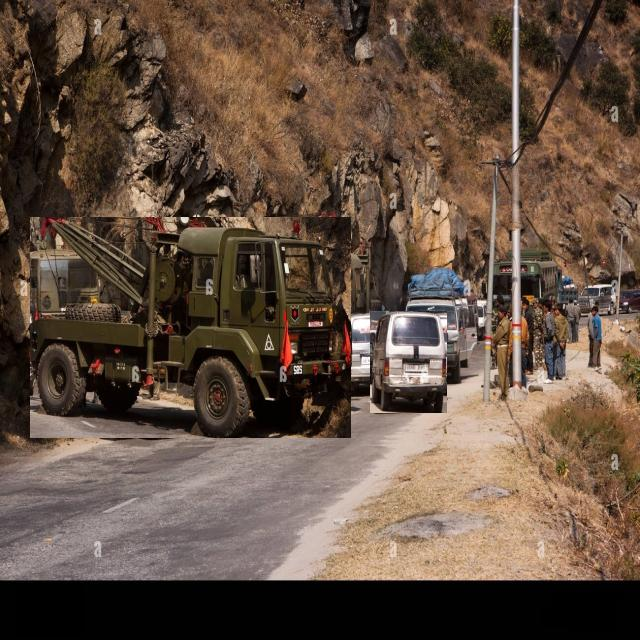bus: (521, 251, 558, 299)
car: (371, 311, 447, 413), (406, 269, 469, 382), (579, 284, 616, 314)
truck: (30, 217, 351, 438)
